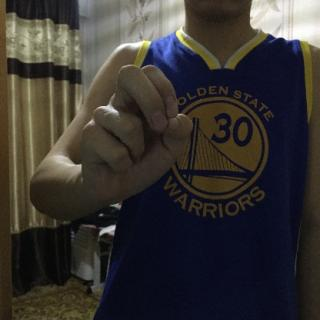QAAF: (67, 59, 200, 207)
